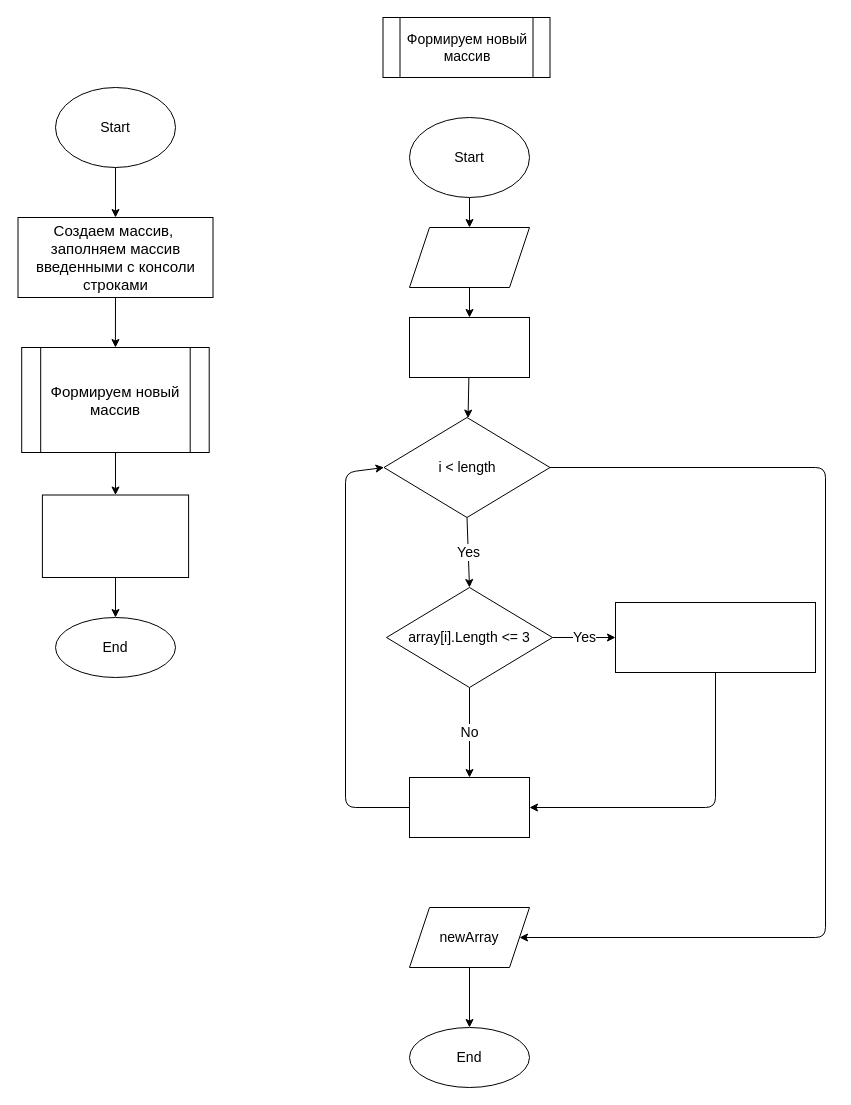
The diagram is 851 pixels wide and 1105 high, and some of its shapes have lost their labels. Each missing label, with the centre of its shape:
"array[length]" belongs at (x=469, y=257).
"i = 0; index = 0; newArray[length];" belongs at (x=469, y=347).
"i++;" belongs at (x=469, y=807).
"newArray[index] = array[i]; index++;" belongs at (x=715, y=637).
"Выводим новый массив в консоль" belongs at (x=115, y=536).
